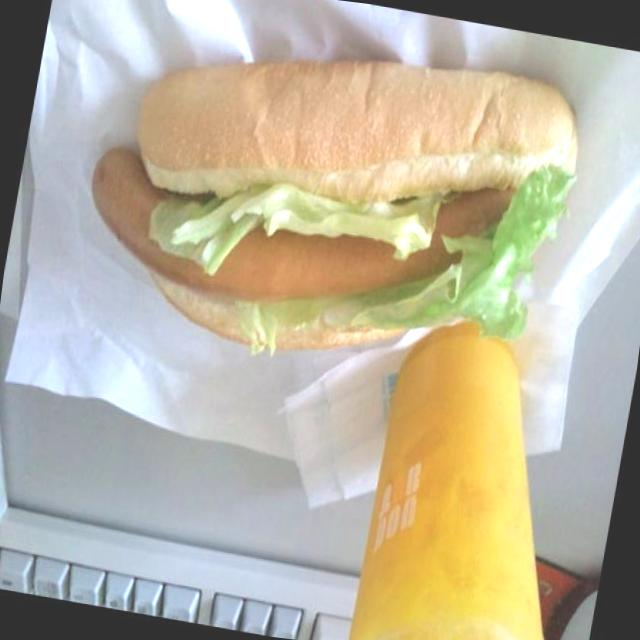Hot Dog: (62, 0, 596, 414)
